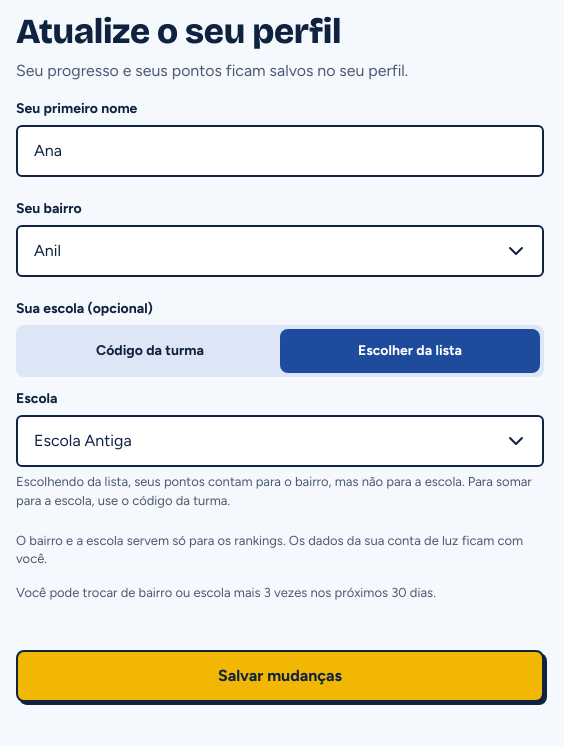
Test: perfil: escola desativada › no 409 ESCOLA_INATIVA, recarrega as escolas do bairro e pede outra
This screenshot has width=564, height=746.
(page scrolled)
Check: the dropdown labelled "Escola" holds "Escola Antiga", box [16, 415, 544, 467]
Step 1. Click the button "Salvar mudanças" → (280, 676), box [16, 650, 544, 702]
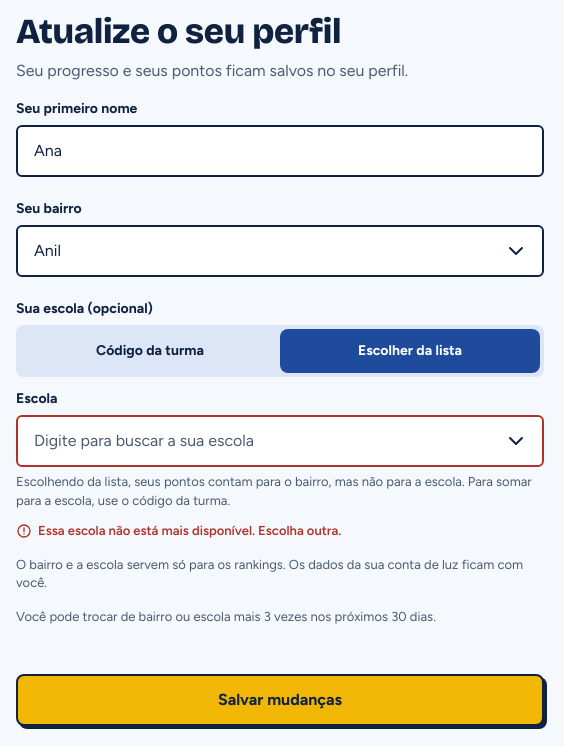
Check: the text "Essa escola não está mais disponível. Escolha outra." is shown, box [16, 523, 341, 539]
Check: the dropdown labelled "Escola" is empty, box [16, 415, 544, 467]
